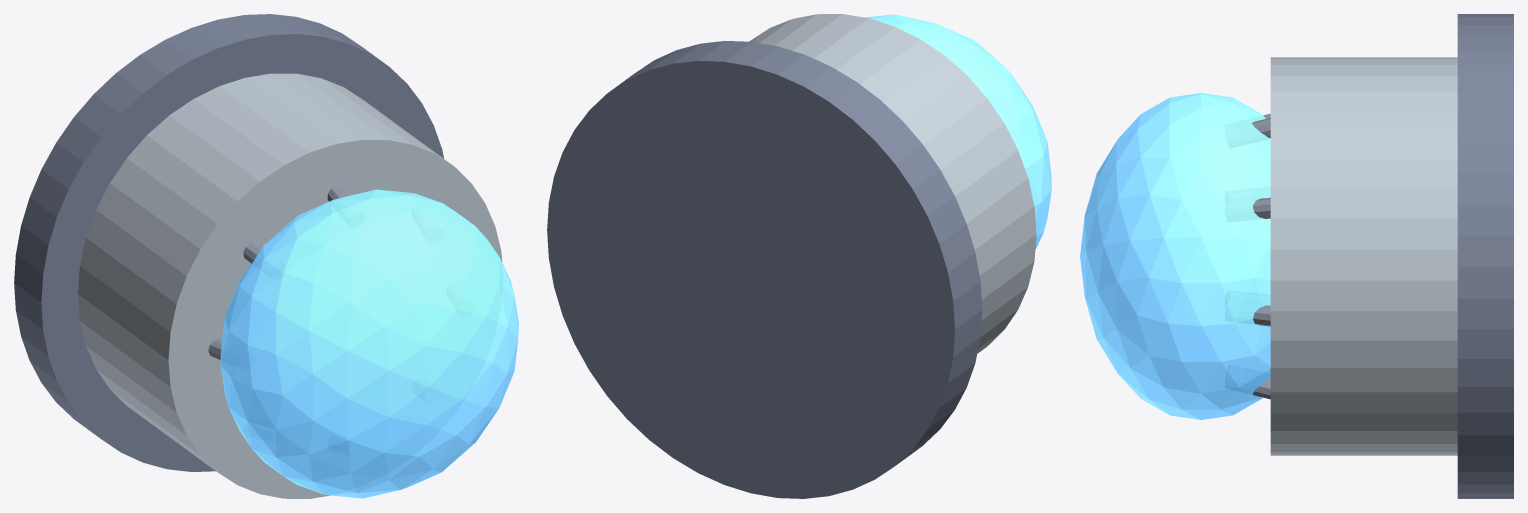
Rendered from 05_Floating_City_Residence.glb.
The picture shows the model from 3 angles, left to right: view 1: azimuth 30°, elevation 25°; view 2: azimuth 150°, elevation 25°; view 3: azimuth 270°, elevation 25°; orthographic projection. The views are drawn at different scales.
Visible parts, largest first — view 1: 05_Floating_City_Residence_10, 05_Floating_City_Residence_01, 05_Floating_City_Residence_00; view 2: 05_Floating_City_Residence_00, 05_Floating_City_Residence_01, 05_Floating_City_Residence_10; view 3: 05_Floating_City_Residence_01, 05_Floating_City_Residence_10, 05_Floating_City_Residence_00.
Boxes of the visible parts, x1,y1,x2,y2 form: 05_Floating_City_Residence_10: (220, 189, 518, 498); 05_Floating_City_Residence_01: (78, 73, 502, 498); 05_Floating_City_Residence_00: (14, 14, 443, 471); 05_Floating_City_Residence_00: (547, 41, 982, 498); 05_Floating_City_Residence_01: (749, 14, 1036, 353); 05_Floating_City_Residence_10: (864, 14, 1051, 249); 05_Floating_City_Residence_01: (1270, 57, 1457, 455); 05_Floating_City_Residence_10: (1080, 93, 1270, 419); 05_Floating_City_Residence_00: (1457, 14, 1513, 498).
Size of the model in its own units: 5.6 by 5.6 by 5.
